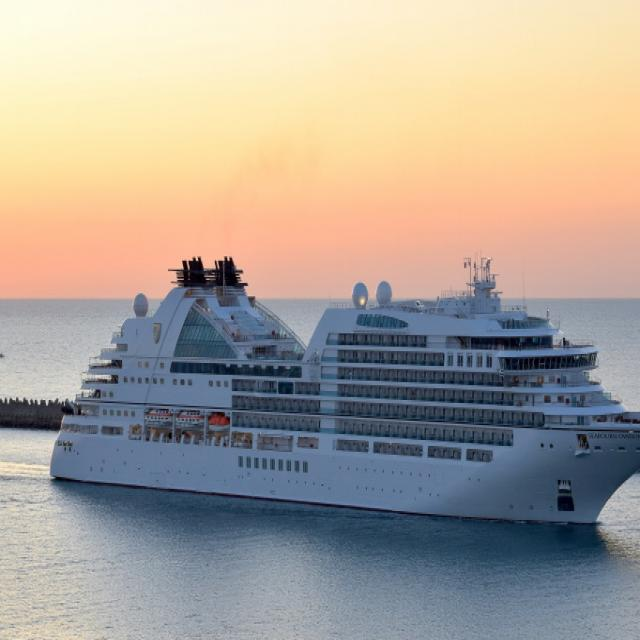cruises: (44, 242, 640, 539)
